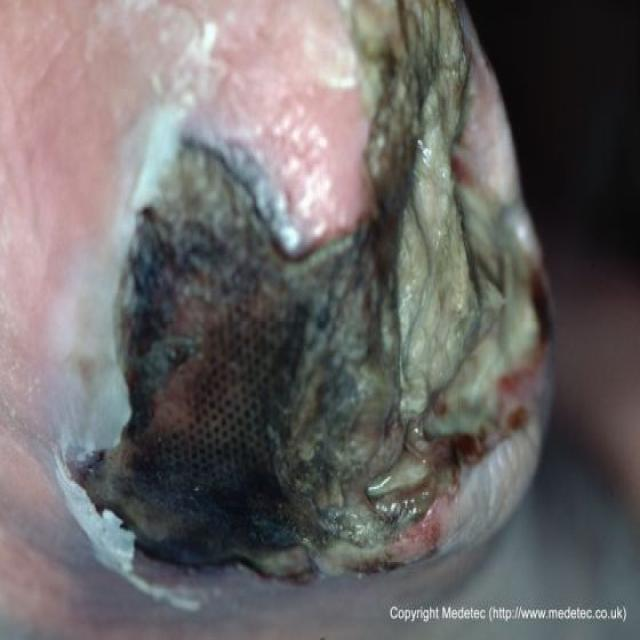Unstageable: (80, 3, 549, 575)
